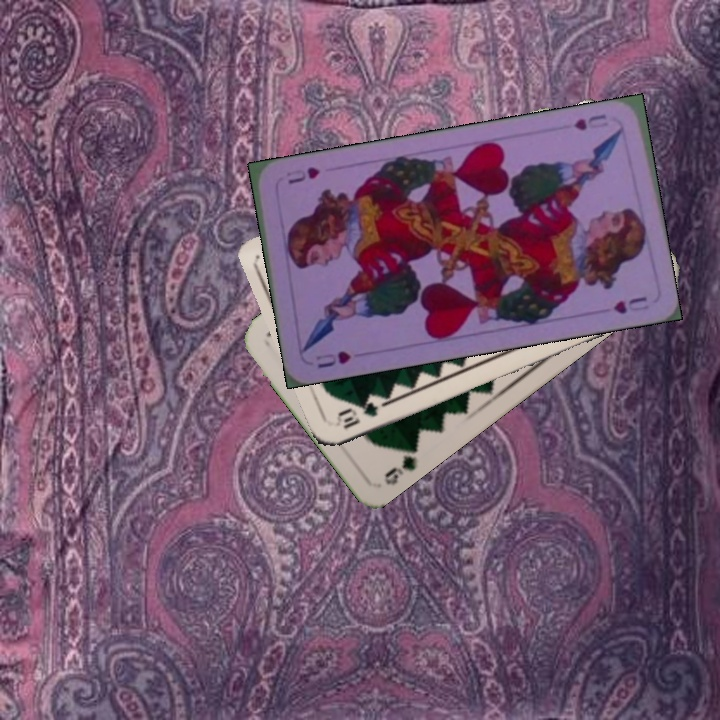G10: (332, 397, 381, 432)
G9: (380, 438, 421, 488)
HU: (311, 346, 353, 371), (570, 110, 611, 133)
